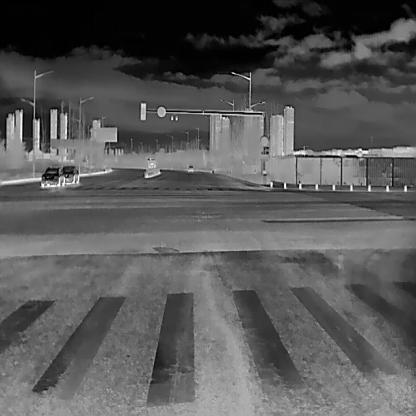car: (40, 166, 64, 186), (59, 164, 78, 183), (186, 164, 194, 172)
truck: (146, 157, 156, 167)
